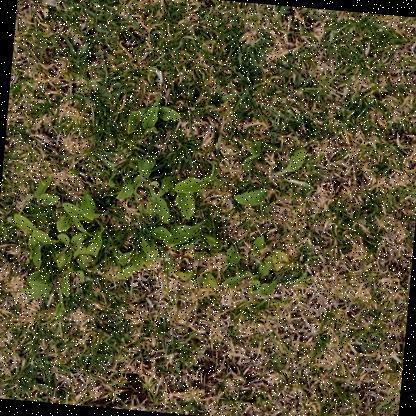Weeds: (3, 83, 322, 341)
